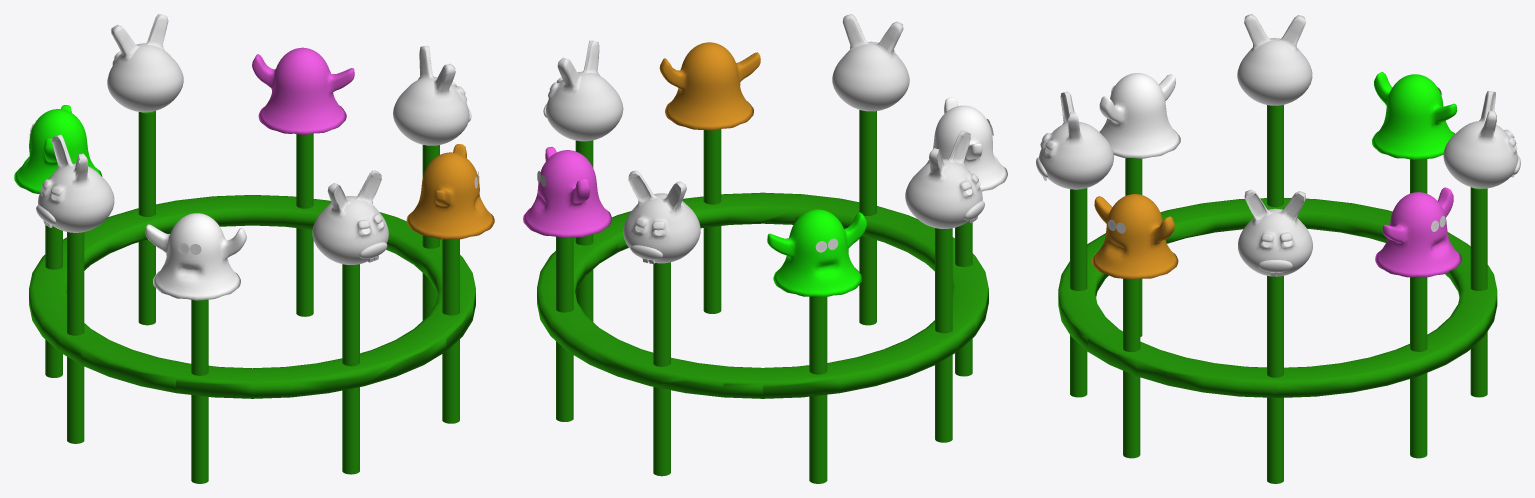
The picture shows the model from 3 angles, left to right: view 1: azimuth 30°, elevation 25°; view 2: azimuth 150°, elevation 25°; view 3: azimuth 270°, elevation 25°; orthographic projection. The views are drawn at different scales.
Parts seen in each view (by area): view 1: Tube001, Sphère022, Sphère031, Sphère032, Sphère027, Sphère023, Sphère030, Sphère026, Sphère033, Cylindre013, Cylindre014, Cylindre015 (+5 smaller); view 2: Tube001, Sphère032, Sphère033, Sphère022, Sphère026, Sphère023, Sphère030, Sphère027, Sphère031, Cylindre014, Cylindre013, Cylindre015 (+5 smaller); view 3: Tube001, Sphère033, Sphère032, Sphère022, Sphère031, Sphère030, Sphère027, Sphère026, Sphère023, Cylindre016, Cylindre014, Cylindre010 (+5 smaller).
Boxes of the visible parts, x1=… form: Tube001: x1=29, y1=195, x2=475, y2=398; Sphère022: x1=252, y1=47, x2=354, y2=134; Sphère031: x1=145, y1=213, x2=246, y2=300; Sphère032: x1=406, y1=144, x2=494, y2=239; Sphère027: x1=107, y1=14, x2=183, y2=112; Sphère023: x1=393, y1=46, x2=469, y2=145; Sphère030: x1=38, y1=134, x2=114, y2=232; Sphère026: x1=312, y1=170, x2=388, y2=264; Sphère033: x1=14, y1=105, x2=102, y2=193; Cylindre013: x1=342, y1=264, x2=359, y2=474; Cylindre014: x1=138, y1=111, x2=155, y2=325; Cylindre015: x1=67, y1=232, x2=84, y2=443; Tube001: x1=537, y1=192, x2=988, y2=398; Sphère032: x1=659, y1=42, x2=760, y2=130; Sphère033: x1=767, y1=209, x2=866, y2=297; Sphère022: x1=523, y1=147, x2=611, y2=238; Sphère026: x1=832, y1=14, x2=909, y2=111; Sphère023: x1=546, y1=40, x2=623, y2=141; Sphère030: x1=905, y1=130, x2=982, y2=228; Sphère027: x1=623, y1=170, x2=700, y2=263; Sphère031: x1=923, y1=97, x2=1007, y2=191; Cylindre014: x1=653, y1=262, x2=670, y2=476; Cylindre013: x1=859, y1=110, x2=876, y2=325; Cylindre015: x1=935, y1=228, x2=952, y2=442; Tube001: x1=1058, y1=198, x2=1497, y2=397; Sphère033: x1=1372, y1=72, x2=1457, y2=159; Sphère032: x1=1092, y1=194, x2=1178, y2=279; Sphère022: x1=1375, y1=187, x2=1461, y2=277; Sphère031: x1=1099, y1=73, x2=1180, y2=158; Sphère030: x1=1237, y1=14, x2=1312, y2=105; Sphère027: x1=1443, y1=91, x2=1518, y2=188; Sphère026: x1=1039, y1=91, x2=1113, y2=189; Sphère023: x1=1238, y1=189, x2=1312, y2=276; Cylindre016: x1=1267, y1=276, x2=1283, y2=483; Cylindre014: x1=1470, y1=187, x2=1487, y2=397; Cylindre010: x1=1410, y1=277, x2=1427, y2=458.
Size of the model in its own units: 50.14 by 33.44 by 50.25.
